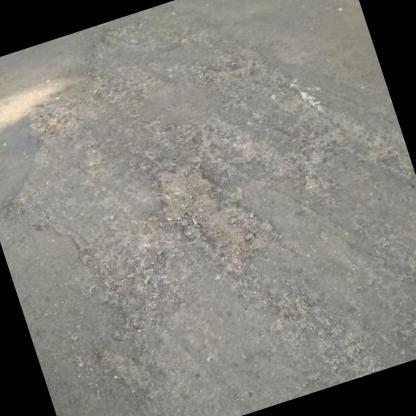pothole: (144, 136, 287, 286)
